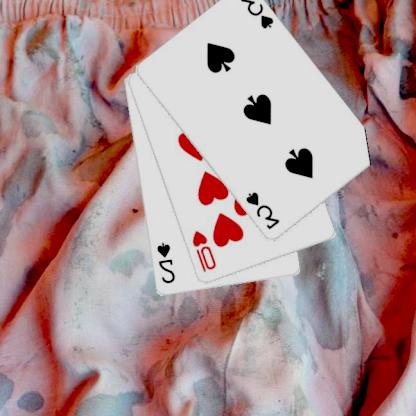10H: (191, 228, 220, 274)
2S: (156, 239, 178, 285)
3S: (245, 189, 283, 231), (239, 0, 277, 31)
